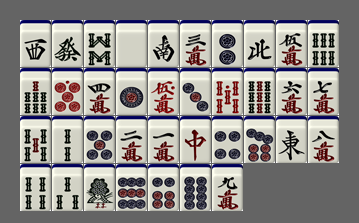0m: (148, 68, 179, 115)
0p: (52, 68, 83, 115)
0s: (212, 68, 243, 115)
1m: (148, 116, 179, 163)
1p: (116, 68, 147, 115)
1s: (84, 164, 115, 211)
1z: (276, 116, 307, 163)
2m: (116, 116, 147, 163)
2p: (212, 20, 243, 67)
2s: (52, 116, 83, 163)
2z: (148, 20, 179, 67)
3m: (180, 20, 211, 67)
3p: (180, 68, 211, 115)
3s: (52, 164, 83, 211)
3z: (20, 20, 51, 67)
4m: (84, 68, 115, 115)
4p: (212, 116, 243, 163)
4s: (20, 164, 51, 211)
4z: (244, 20, 275, 67)
5m: (276, 20, 307, 67)
5p: (84, 116, 115, 163)
5s: (20, 116, 51, 163)
5z: (116, 20, 147, 67)
6m: (276, 68, 307, 115)
6p: (148, 164, 179, 211)
6s: (308, 20, 339, 67)
6z: (52, 20, 83, 67)
7m: (308, 68, 339, 115)
7p: (244, 116, 275, 163)
7s: (20, 68, 51, 115)
7z: (180, 116, 211, 163)
8m: (308, 116, 339, 163)
8p: (180, 164, 211, 211)
8s: (84, 20, 115, 67)
9m: (212, 164, 243, 211)
9p: (116, 164, 147, 211)
9s: (244, 68, 275, 115)
